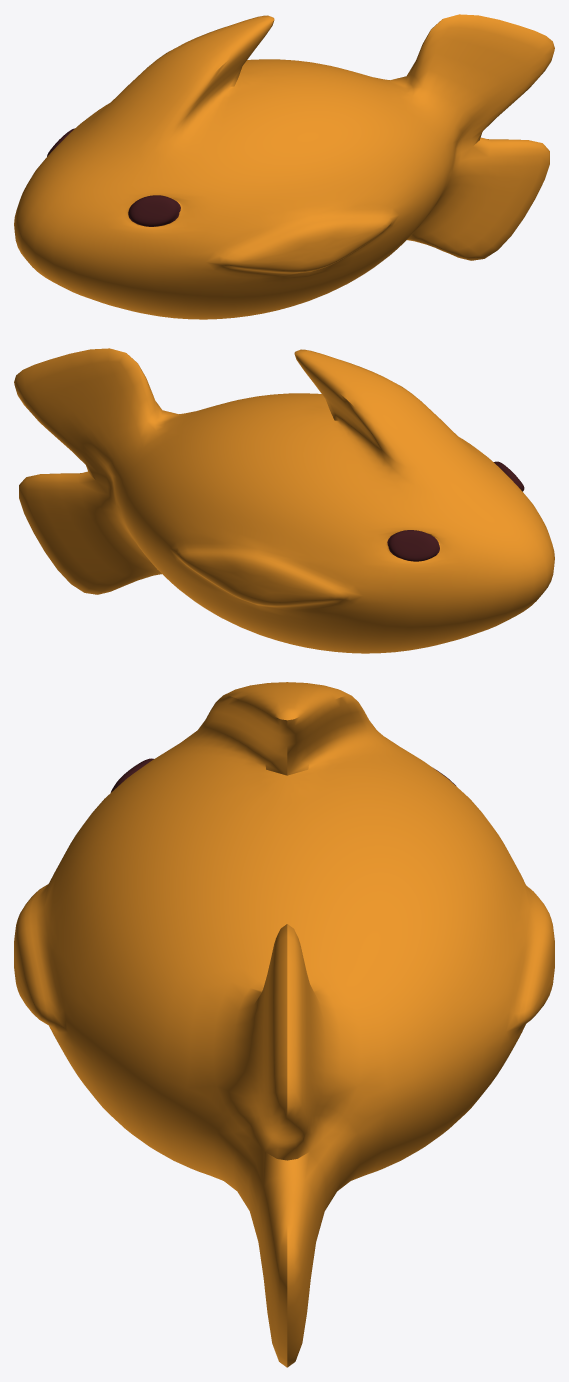
File: fish.fbx
3 renders of one model, top to bottom at view 1: azimuth 30°, elevation 25°; view 2: azimuth 150°, elevation 25°; view 3: azimuth 270°, elevation 25°, orthographic. The views are drawn at different scales.
Visible parts, largest first — view 1: fish; view 2: fish; view 3: fish.
Part boxes in pixels (left/top/right/bottom): fish: left=14, top=14, right=554, bottom=319; fish: left=14, top=348, right=554, bottom=653; fish: left=14, top=682, right=554, bottom=1367.
Bounding box in the file's own units: 53.3 × 28.14 × 28.66.
